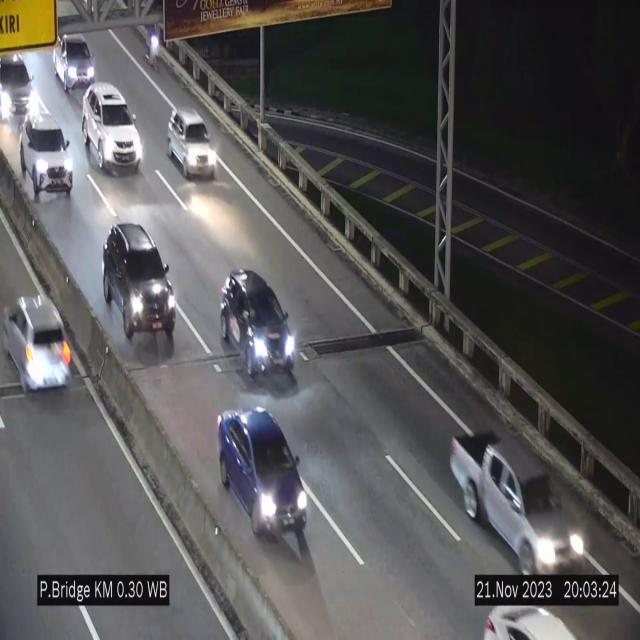Car: (448, 426, 590, 569), (220, 404, 312, 548), (100, 222, 176, 348), (1, 277, 74, 400), (221, 266, 298, 380), (82, 84, 142, 172), (22, 110, 72, 196), (0, 38, 41, 132), (167, 106, 217, 178), (54, 35, 96, 97)
Motorcycle: (146, 24, 161, 81)
